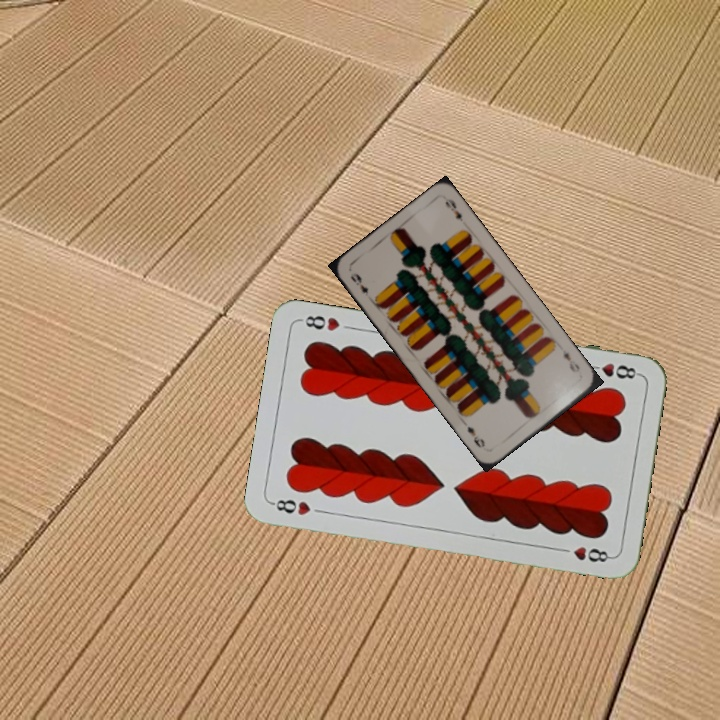E9: (346, 269, 371, 299), (558, 346, 582, 375)
H8: (583, 359, 642, 382), (268, 495, 313, 518)
